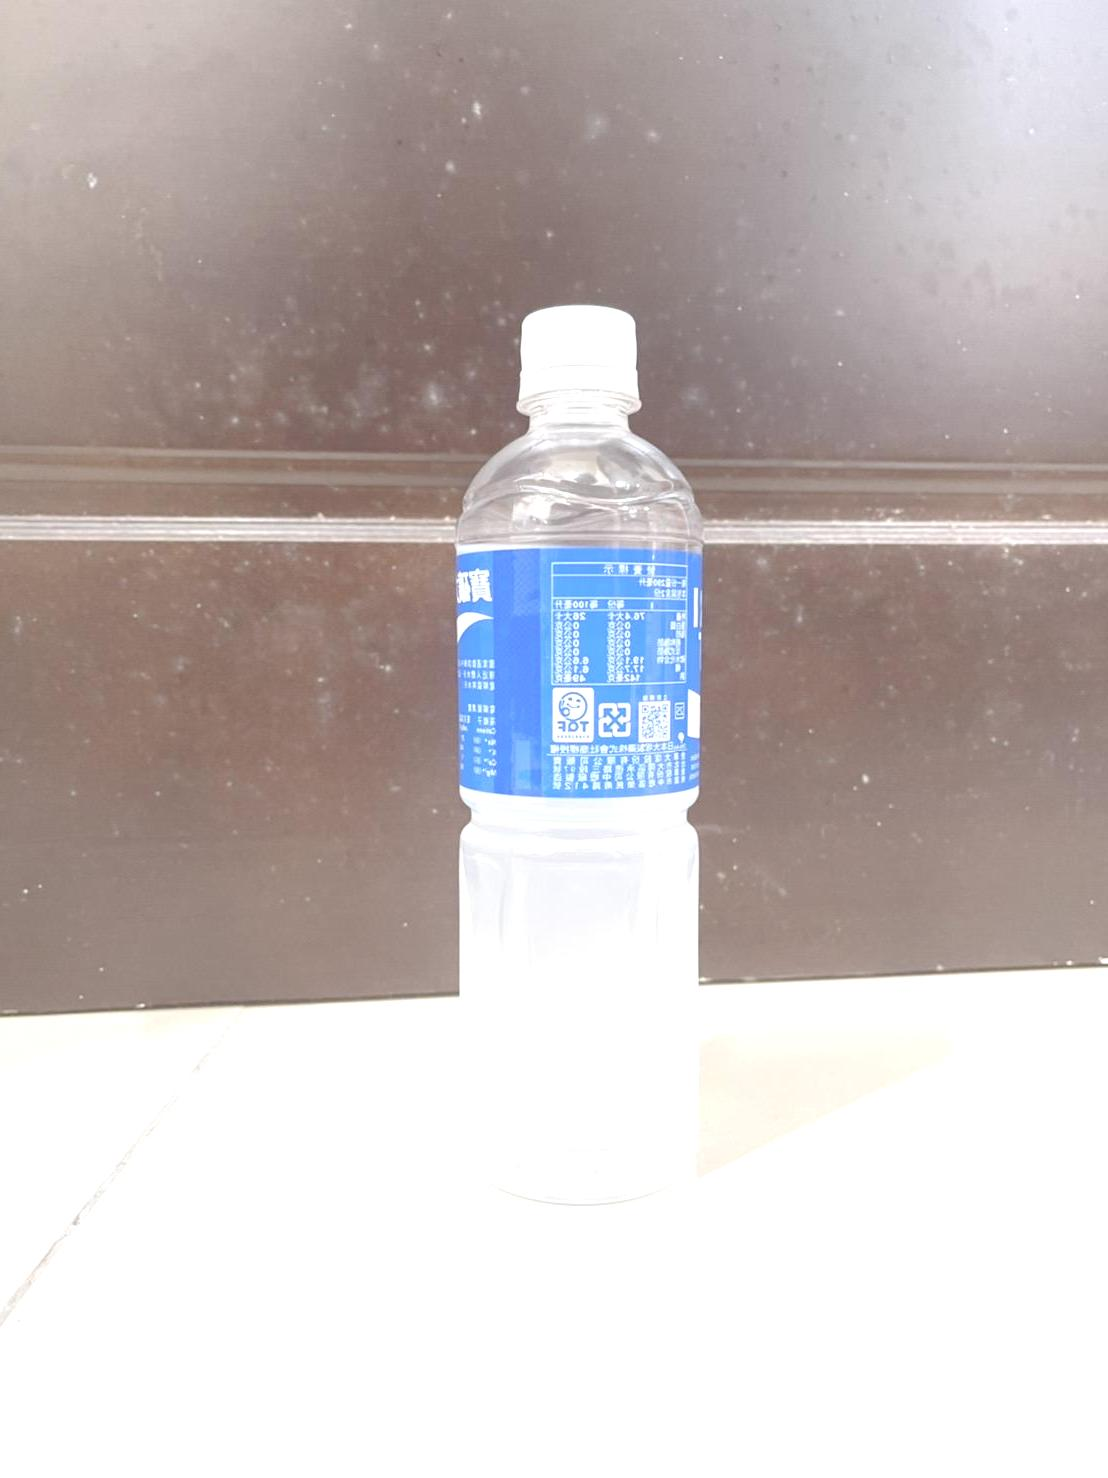bottle: (436, 293, 732, 1210)
